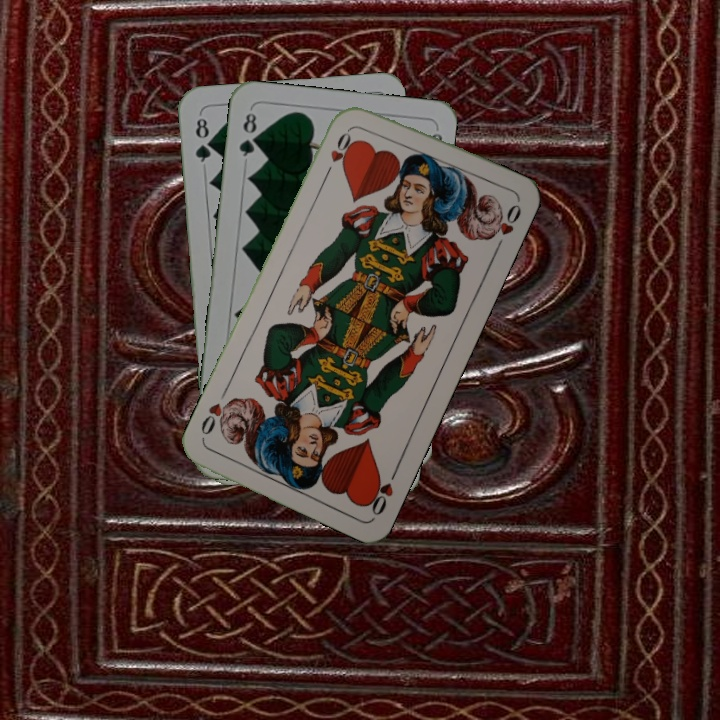G8: (235, 105, 260, 159), (191, 114, 215, 165)
HO: (363, 463, 401, 518), (321, 123, 356, 178)
